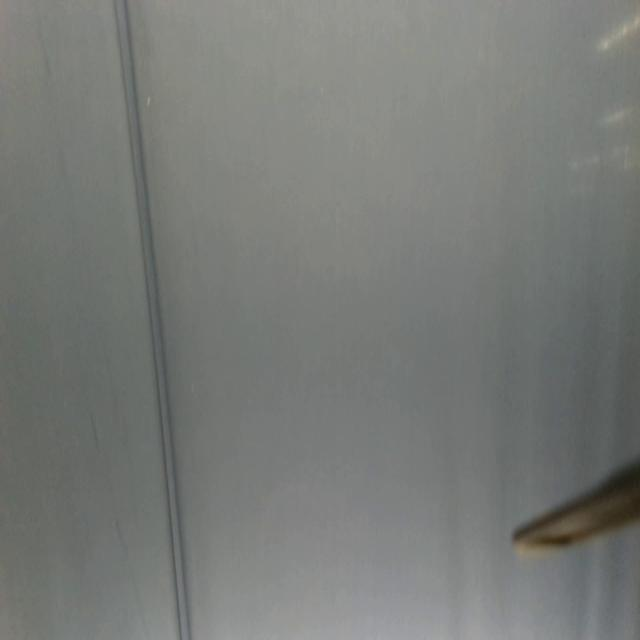crease: (114, 1, 191, 640)
